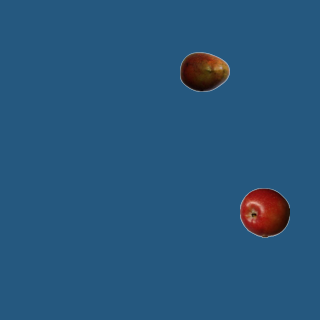Apple Braeburn: (239, 187, 289, 237)
Mango Red: (179, 46, 229, 96)
